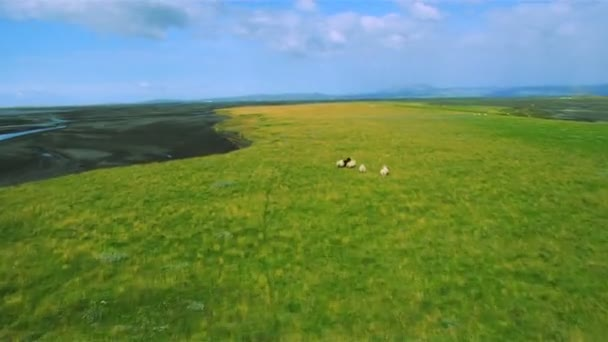sheep: (335, 156, 351, 168), (380, 165, 389, 176), (346, 159, 357, 168), (358, 163, 366, 172)
